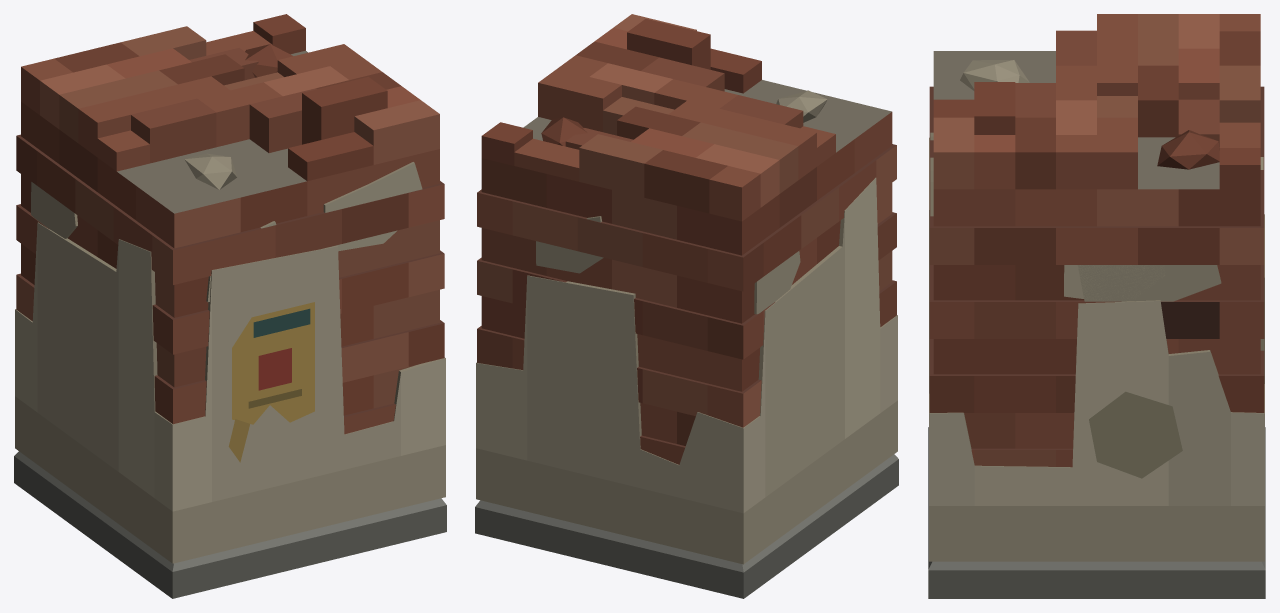
The model's file is parede_tijolo_1.glb.
3 renders of one model, left to right at view 1: azimuth 30°, elevation 25°; view 2: azimuth 150°, elevation 25°; view 3: azimuth 270°, elevation 25°, orthographic. The views are drawn at different scales.
Parts seen in each view (by area): view 1: parede_tijolo_1.001; view 2: parede_tijolo_1.001; view 3: parede_tijolo_1.001.
Boxes of the visible parts, left/top/right/bottom form: parede_tijolo_1.001: left=14, top=14, right=446, bottom=598; parede_tijolo_1.001: left=475, top=14, right=898, bottom=598; parede_tijolo_1.001: left=928, top=14, right=1265, bottom=598.
Size of the model in its own units: 1.65 by 2.5 by 1.66.
